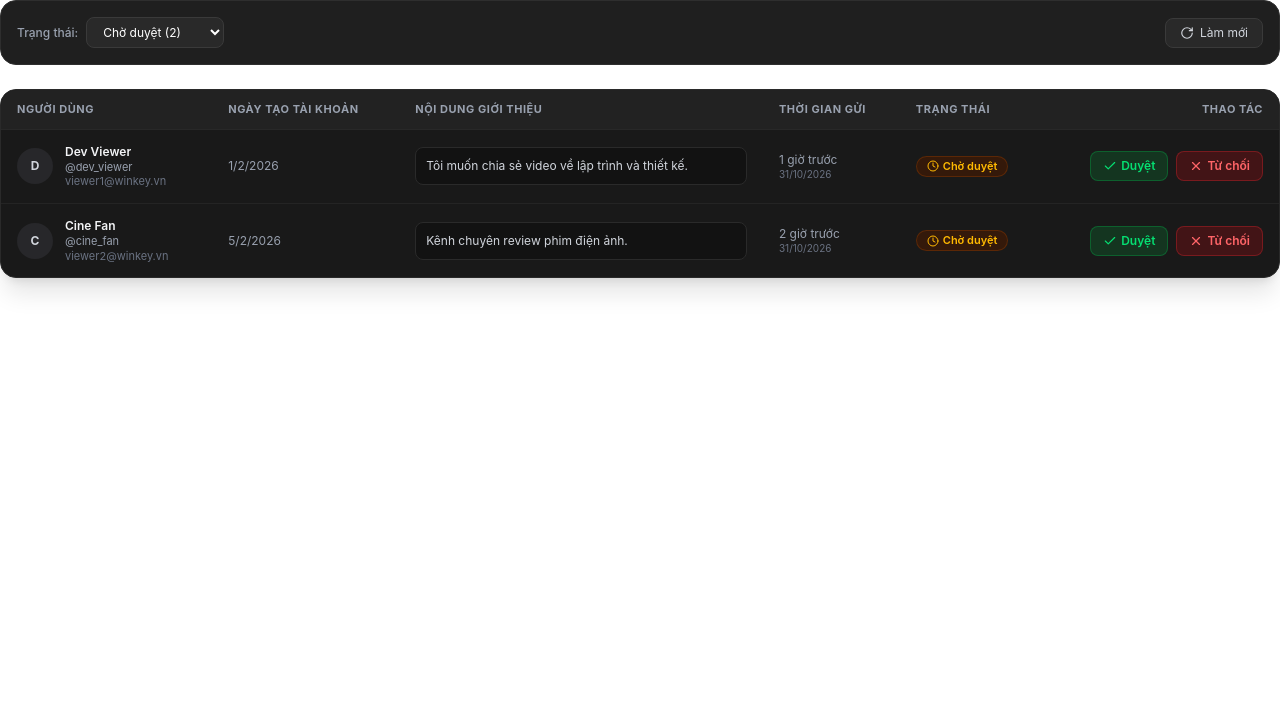
Test: Task ROLE1 (ADR-046): Admin Creator Requests & Quick Role Management › CreatorRequestsViewer › 1. Renders requests list with user info, message, avatar, age, and handles Approve
Expected: the row with test id "creator-request-row-req-1" is shown, [1,129,1279,204]
Expected: the row with test id "creator-request-row-req-2" is shown, [1,204,1279,277]
Note: Click Approve on req-1
What coordinates should you click on to do the following:
click the button with test id "admin-approve-btn-req-1"
I would click on:
 (1129, 166)
Its box is [1090,151,1168,181].
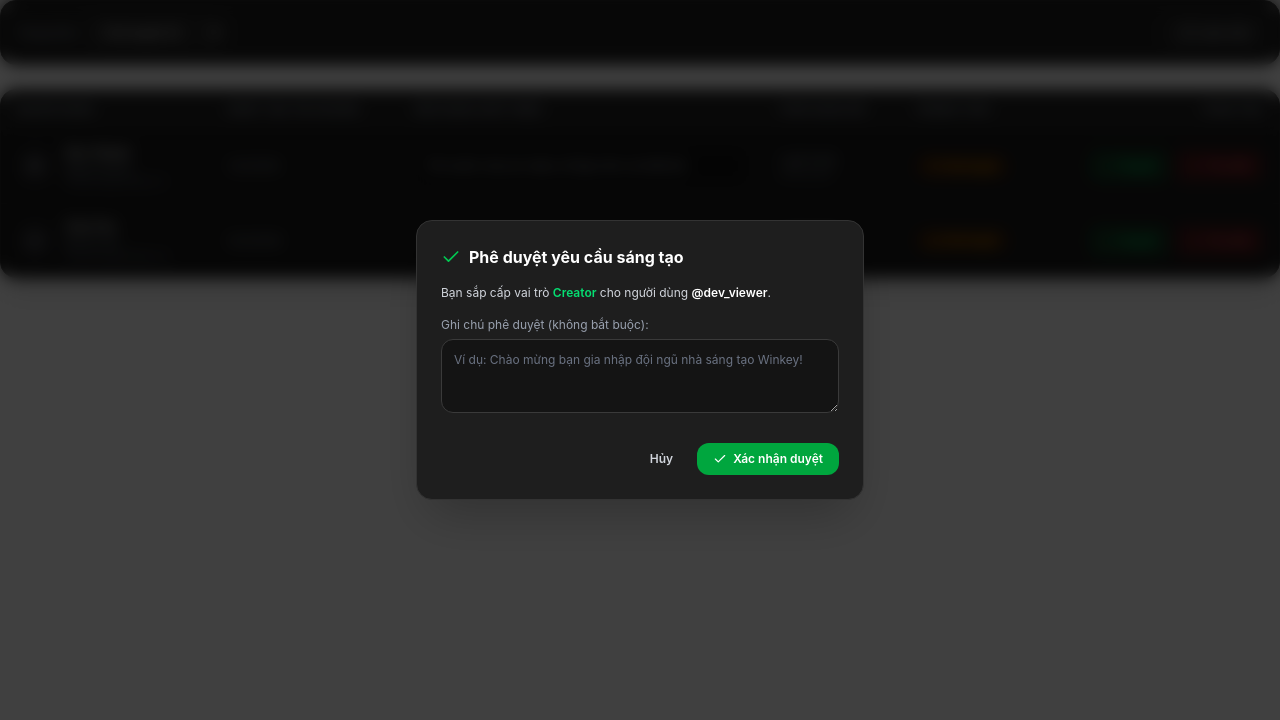
Result: the text "Phê duyệt yêu cầu sáng tạo" is shown at [469,245,684,269]
What coordinates should you click on to do the following:
click the button with test id "confirm-approve-btn"
I would click on:
 (768, 459)
Its box is [697,443,839,475].
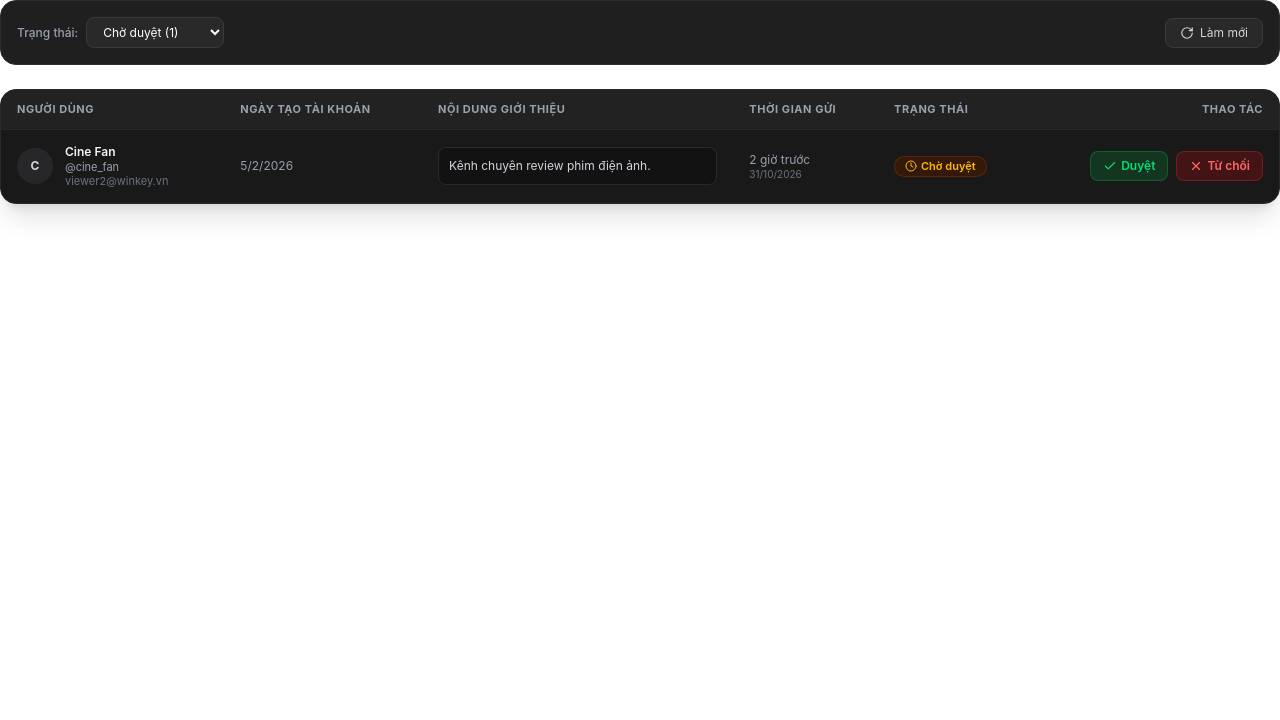
Expected: the row with test id "creator-request-row-req-2" is shown, [1,129,1279,203]
Result: the row with test id "creator-request-row-req-1" is gone
